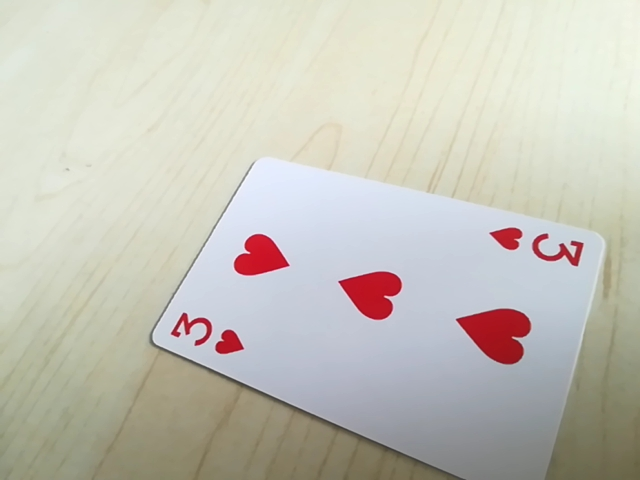hx 3: (488, 223, 590, 271), (163, 306, 249, 359)
